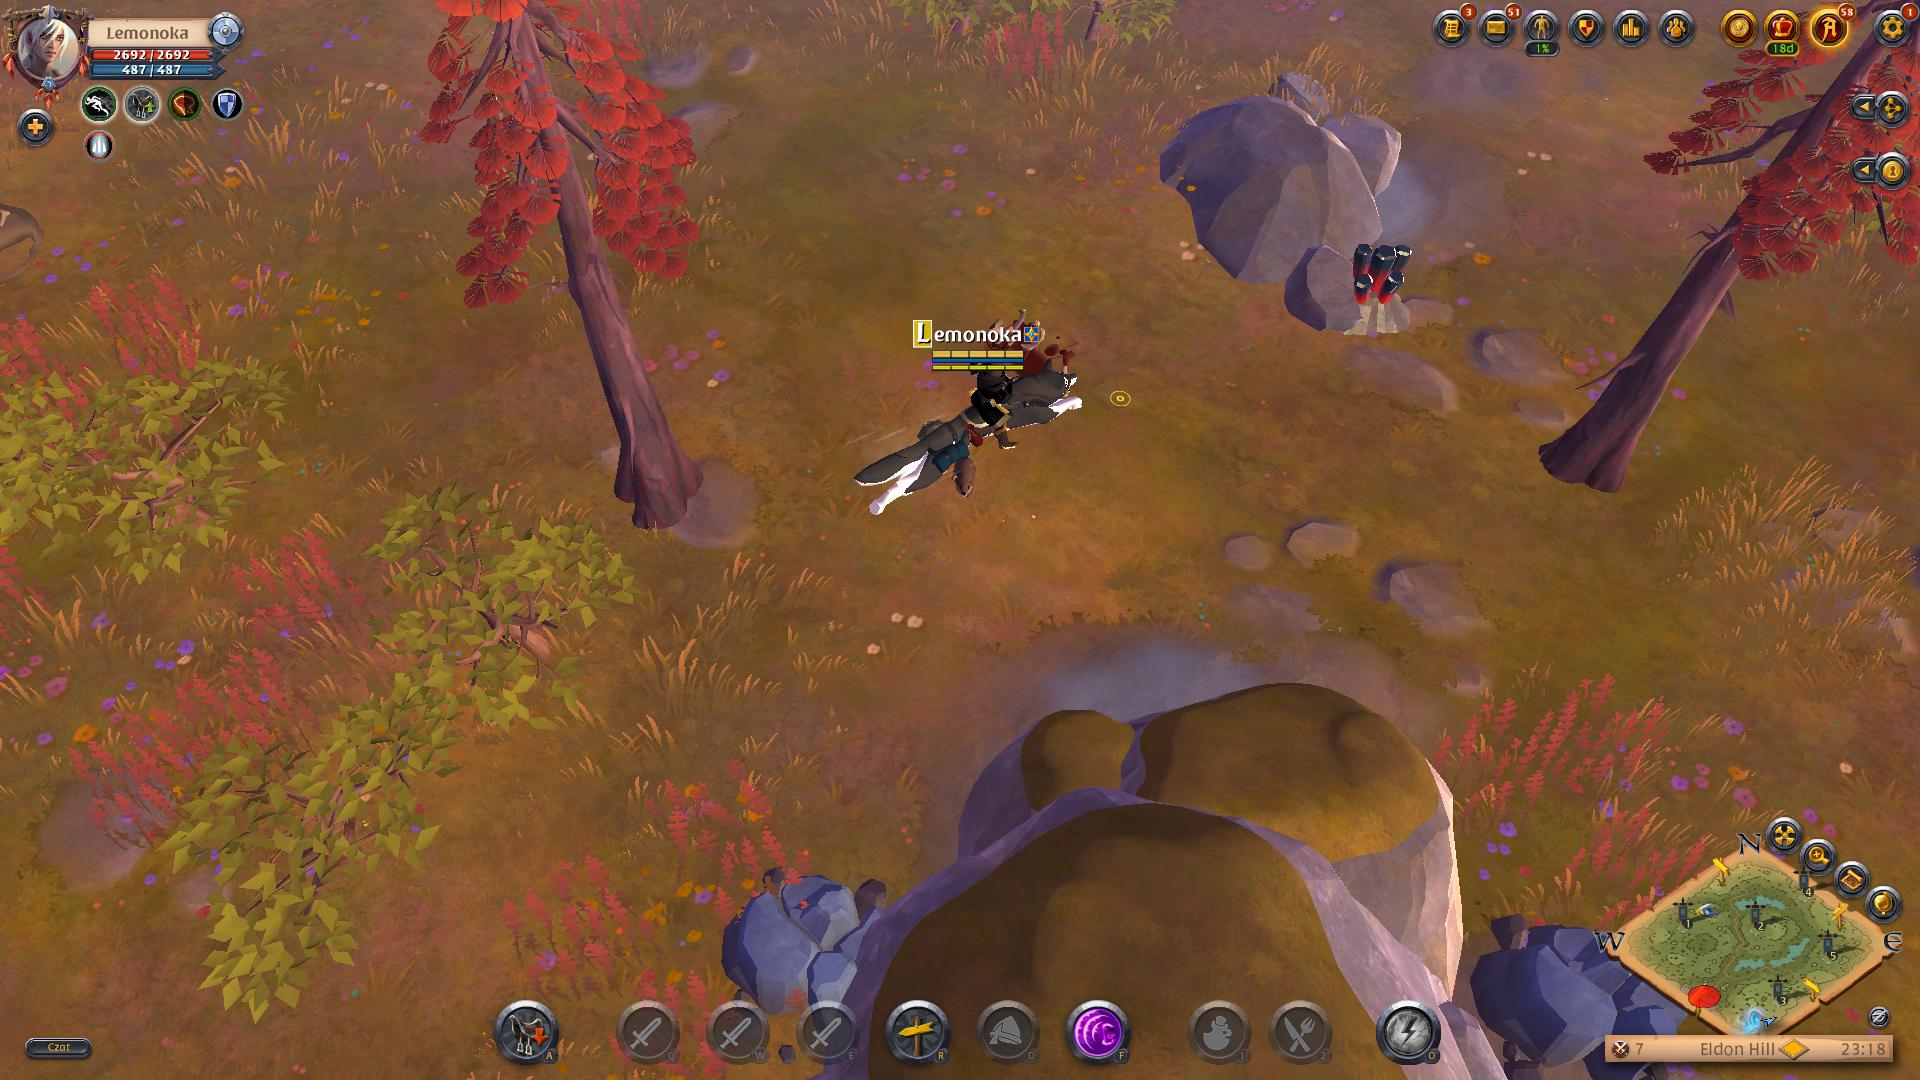ore tier 5: (1337, 233, 1420, 334)
rock tier 4: (712, 865, 910, 1005)
wood tier 5: (418, 0, 708, 309)
